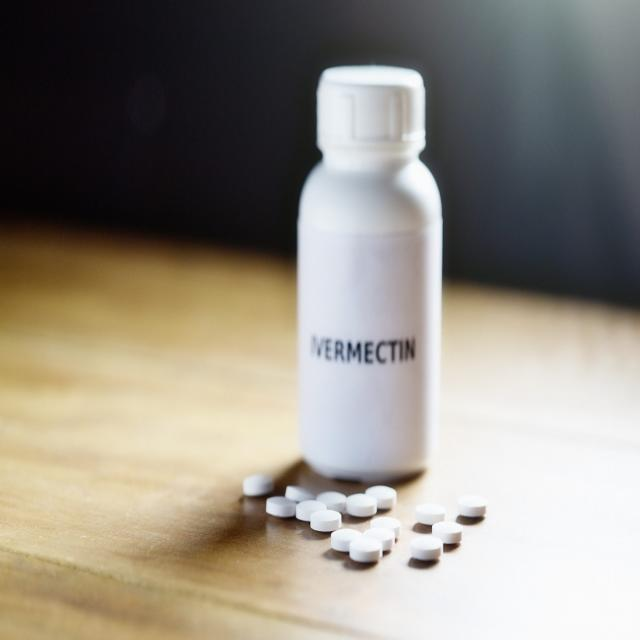jar: (295, 66, 444, 491)
